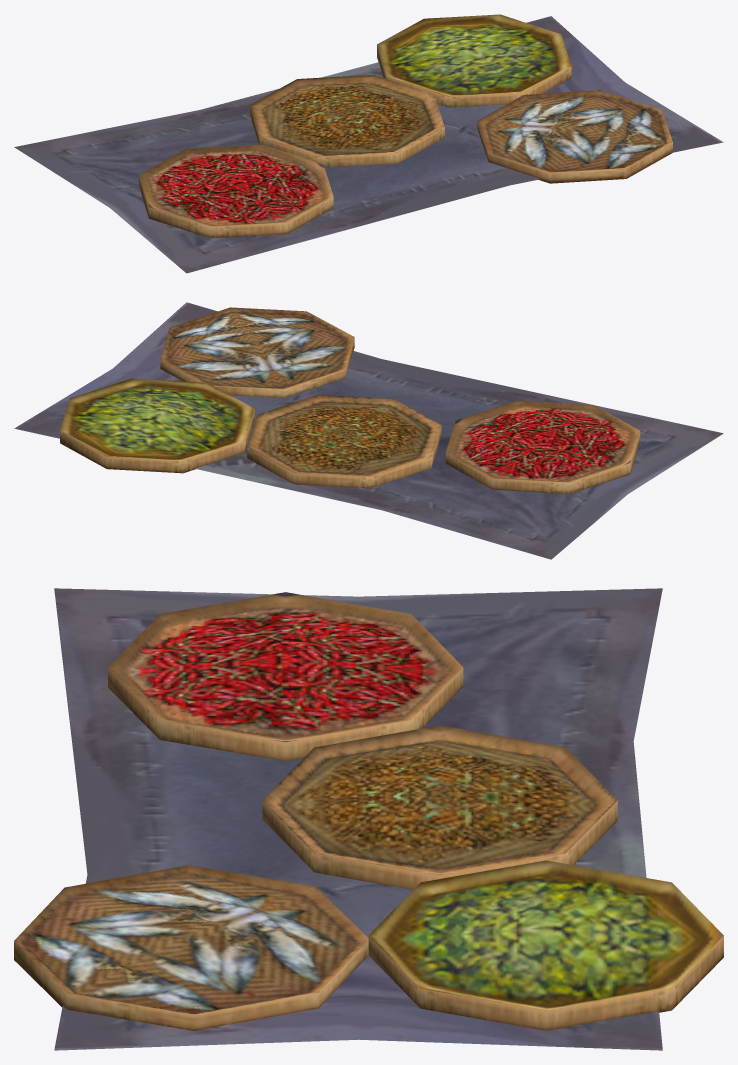
Rendered from gan_huo_xiao_tan_001.FBX.
The picture shows the model from 3 angles, top to bottom: view 1: azimuth 30°, elevation 25°; view 2: azimuth 150°, elevation 25°; view 3: azimuth 270°, elevation 25°; orthographic projection. The views are drawn at different scales.
Visible parts, largest first — view 1: di_tan_005, gan_huo_006, gan_huo_005, gan_huo_004, gan_huo_007; view 2: di_tan_005, gan_huo_007, gan_huo_006, gan_huo_004, gan_huo_005; view 3: di_tan_005, gan_huo_007, gan_huo_006, gan_huo_005, gan_huo_004.
Boxes of the visible parts, x1=… form: di_tan_005: x1=14, y1=16, x2=723, y2=273; gan_huo_006: x1=139, y1=144, x2=333, y2=238; gan_huo_005: x1=477, y1=90, x2=672, y2=183; gan_huo_004: x1=250, y1=74, x2=444, y2=167; gan_huo_007: x1=377, y1=14, x2=571, y2=107; di_tan_005: x1=14, y1=302, x2=723, y2=559; gan_huo_007: x1=60, y1=378, x2=254, y2=473; gan_huo_006: x1=445, y1=400, x2=640, y2=494; gan_huo_004: x1=247, y1=395, x2=441, y2=488; gan_huo_005: x1=160, y1=307, x2=354, y2=397; di_tan_005: x1=54, y1=588, x2=662, y2=1050; gan_huo_007: x1=368, y1=860, x2=723, y2=1030; gan_huo_006: x1=108, y1=592, x2=463, y2=760; gan_huo_005: x1=14, y1=865, x2=368, y2=1030; gan_huo_004: x1=262, y1=725, x2=617, y2=889.
Size of the model in its own units: 202 by 6.36 by 131.
